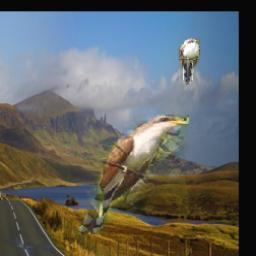Cuckoo: (79, 115, 190, 234), (180, 39, 201, 86)
